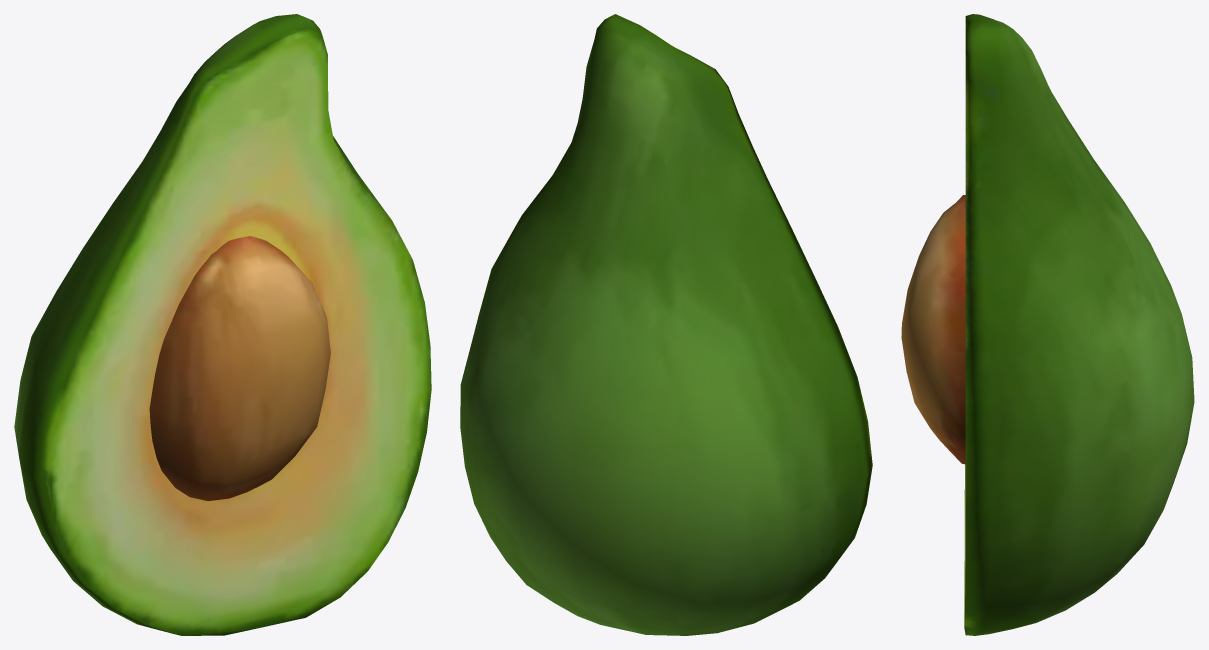
The model's file is Avocado.glb.
The picture shows the model from 3 angles, left to right: view 1: azimuth 30°, elevation 25°; view 2: azimuth 150°, elevation 25°; view 3: azimuth 270°, elevation 25°; orthographic projection. The views are drawn at different scales.
Parts seen in each view (by area): view 1: Avocado; view 2: Avocado; view 3: Avocado.
Boxes of the visible parts, x1=… form: Avocado: x1=14, y1=14, x2=431, y2=635; Avocado: x1=460, y1=14, x2=872, y2=635; Avocado: x1=901, y1=14, x2=1194, y2=635.
Size of the model in its own units: 0.0426 by 0.0629 by 0.0276.
Materials: 1 (1 with a texture image).
